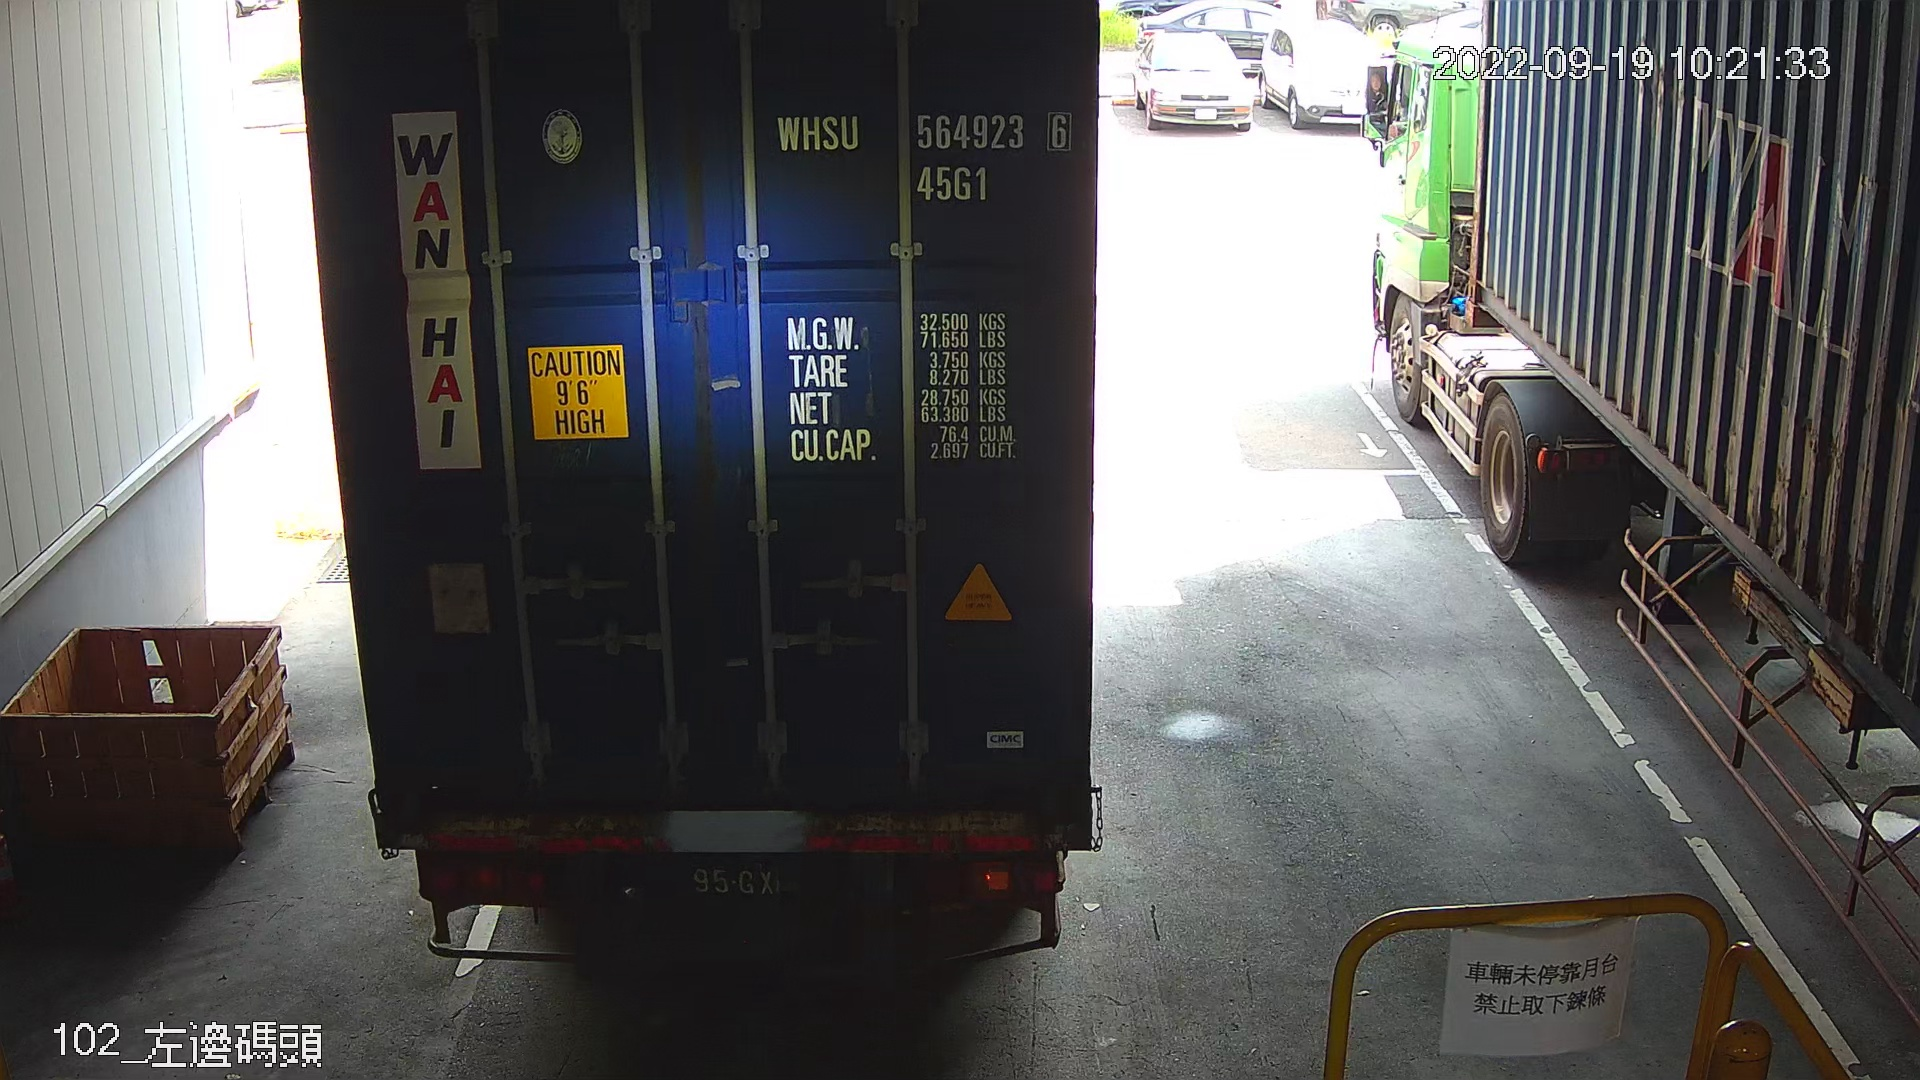container: (764, 102, 1081, 211)
